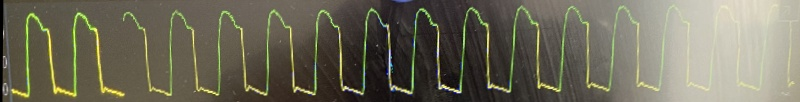normal_pressure: (0, 0, 777, 102)
